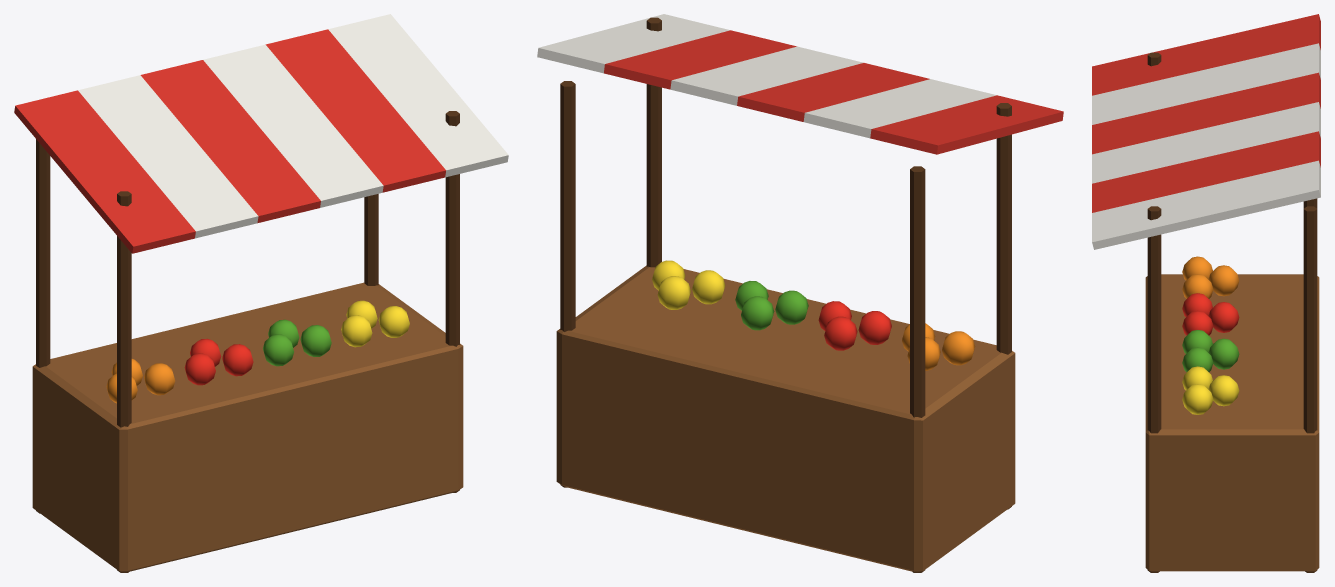
The model's file is market_stall.glb.
3 views of the same model, side by side, from view 1: azimuth 30°, elevation 25°; view 2: azimuth 150°, elevation 25°; view 3: azimuth 270°, elevation 25° (orthographic). The views are drawn at different scales.
Visible parts, largest first — view 1: Cube; view 2: Cube; view 3: Cube.
Part boxes in pixels (<box>): Cube: <box>14,14,508,572</box>; Cube: <box>537,14,1063,572</box>; Cube: <box>1092,14,1320,572</box>.
Bounding box in the file's own units: 2.4 × 2.49 × 1.32.
